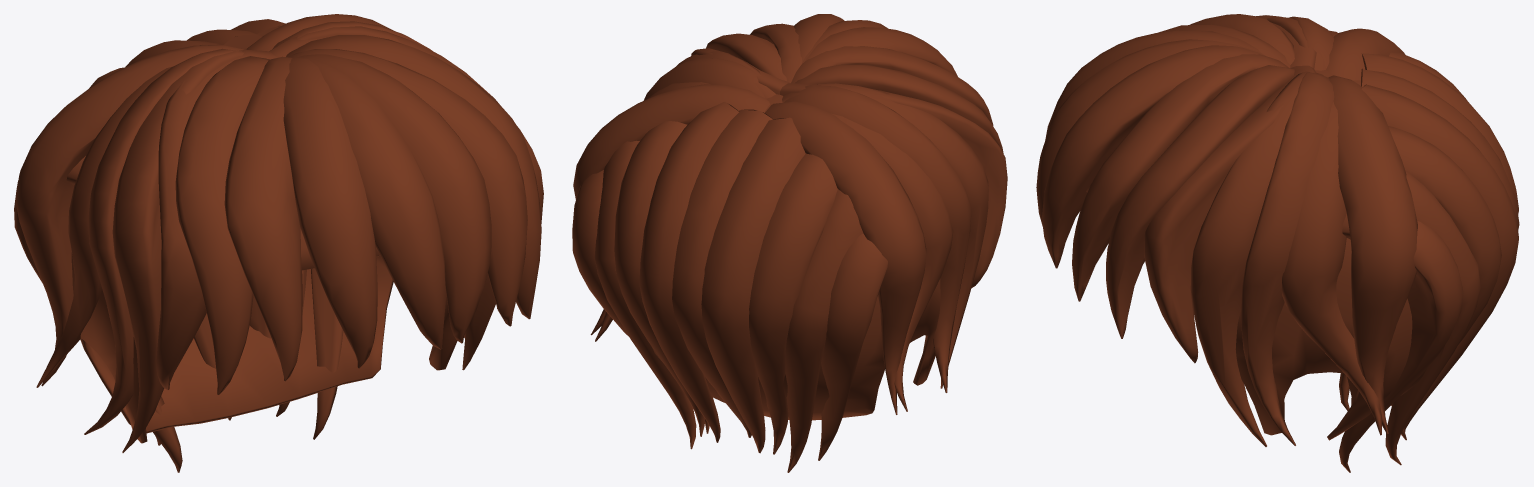
File: hair-6-f14fc37f.glb
The picture shows the model from 3 angles, left to right: view 1: azimuth 30°, elevation 25°; view 2: azimuth 150°, elevation 25°; view 3: azimuth 270°, elevation 25°; orthographic projection. The views are drawn at different scales.
Parts seen in each view (by area): view 1: hair_6.001; view 2: hair_6.001; view 3: hair_6.001.
Boxes of the visible parts, x1,y1,x2,y2 form: hair_6.001: (14, 14, 543, 472); hair_6.001: (572, 14, 1007, 472); hair_6.001: (1036, 14, 1519, 472).
Size of the model in its own units: 1.82 by 1.87 by 2.04.
